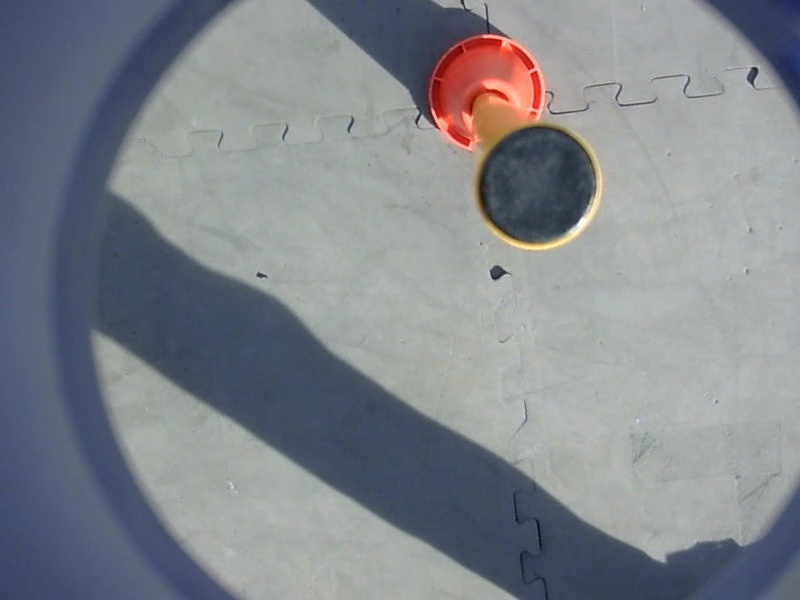tip: (468, 121, 605, 259)
